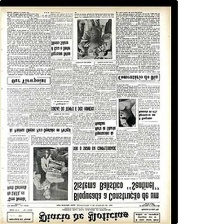news_paper: (0, 5, 174, 223)
